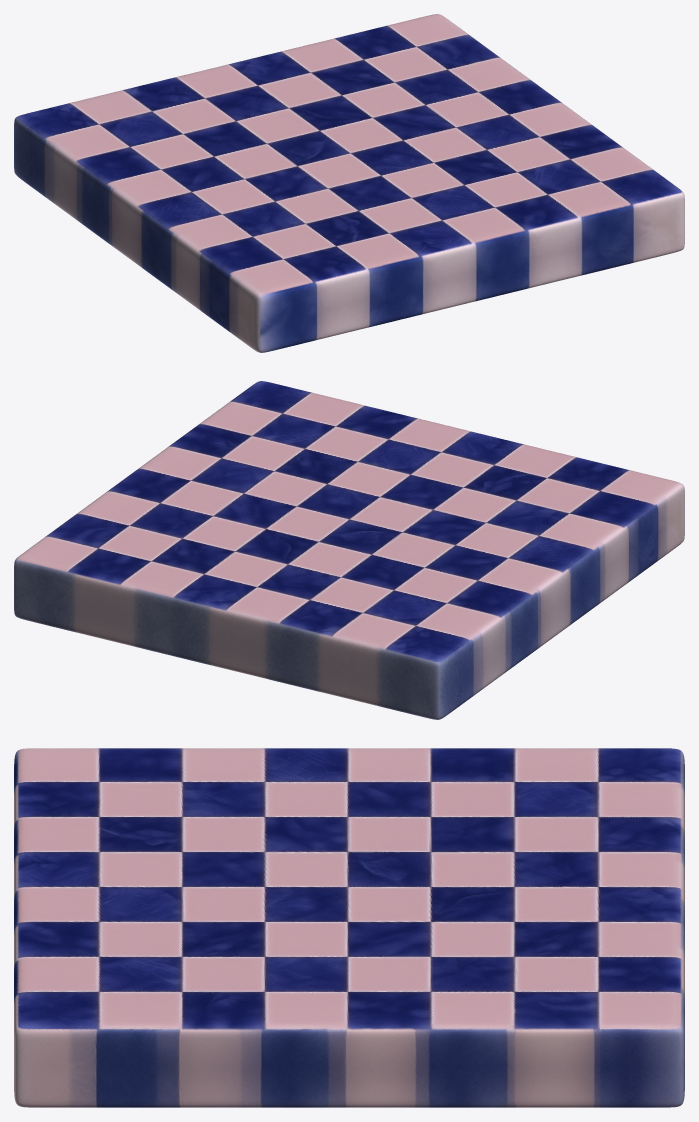
File: pink-purple-board.glb
The picture shows the model from 3 angles, top to bottom: view 1: azimuth 30°, elevation 25°; view 2: azimuth 150°, elevation 25°; view 3: azimuth 270°, elevation 25°; orthographic projection. The views are drawn at different scales.
Parts seen in each view (by area): view 1: mesh_node; view 2: mesh_node; view 3: mesh_node.
Boxes of the visible parts, <box> form: mesh_node: <box>14,14,684,352</box>; mesh_node: <box>14,381,684,719</box>; mesh_node: <box>14,748,684,1107</box>.
Bounding box in the file's own units: 1.9 × 0.2589 × 1.9.
1 material, 1 textured.
